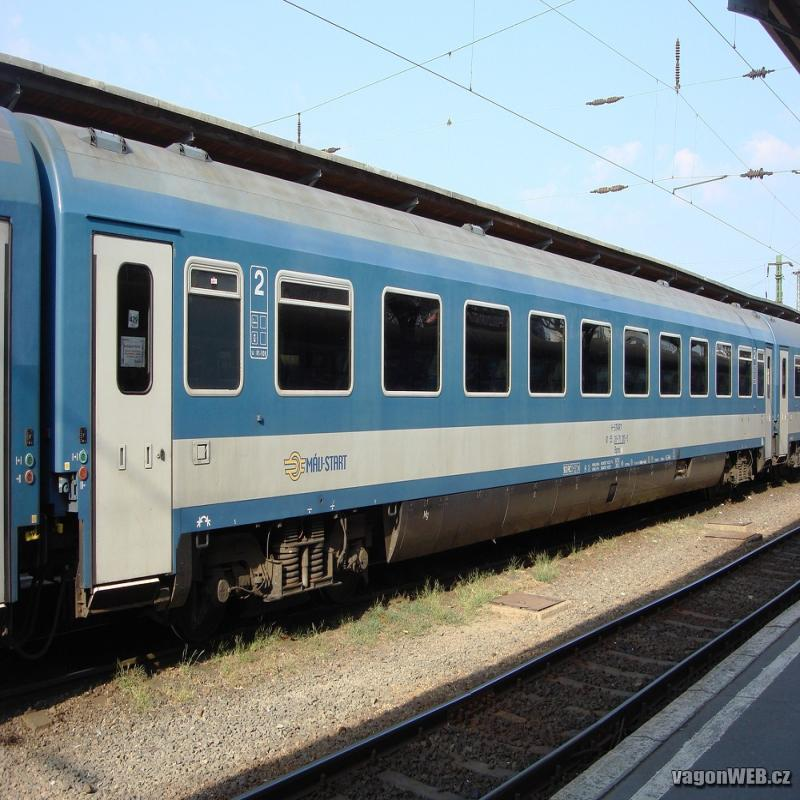train: (19, 111, 777, 697)
